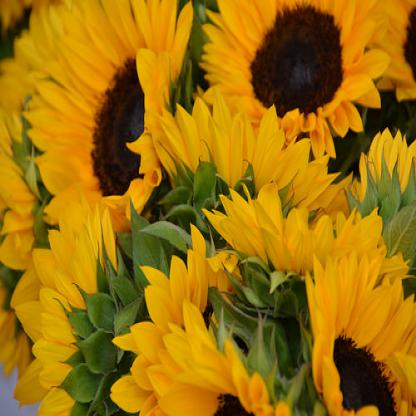SUN FLOWER: (6, 16, 410, 406)
